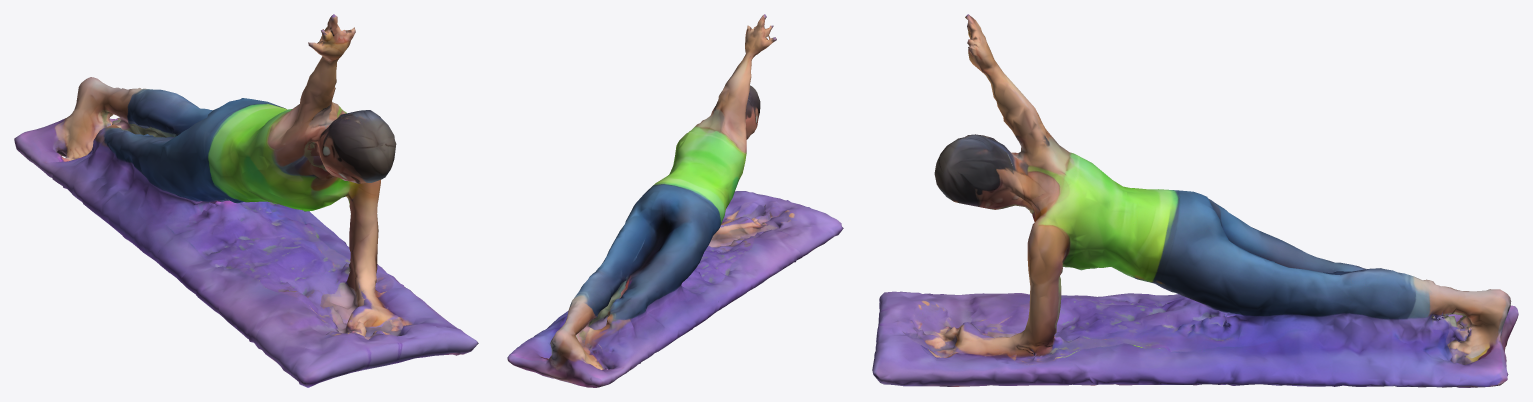
The model's file is e913cec7-2574-4339-9c39-876b5bd28d30.glb.
The picture shows the model from 3 angles, left to right: view 1: azimuth 30°, elevation 25°; view 2: azimuth 150°, elevation 25°; view 3: azimuth 270°, elevation 25°; orthographic projection. The views are drawn at different scales.
Size of the model in its own units: 0.3744 by 0.6905 by 1.2.
Materials: 1 (1 with a texture image).
